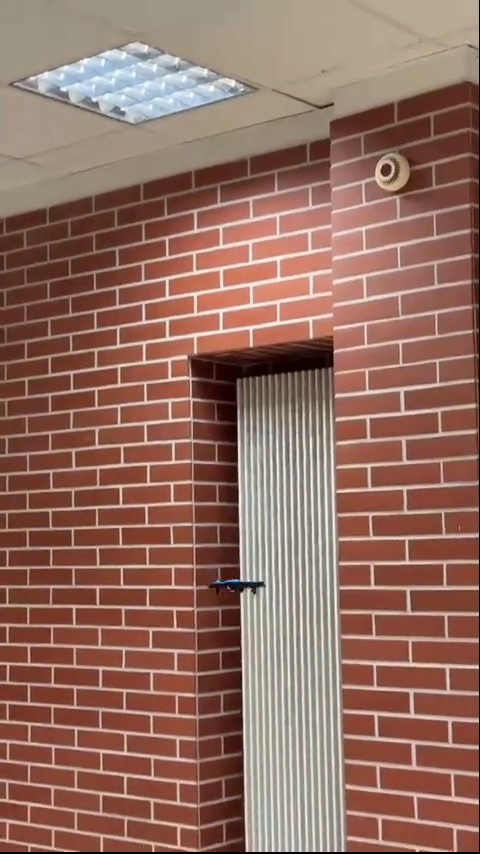drone: (207, 577, 266, 600)
